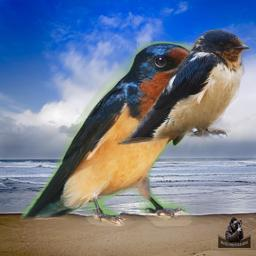Swallow: (20, 41, 205, 226), (117, 28, 252, 147)
